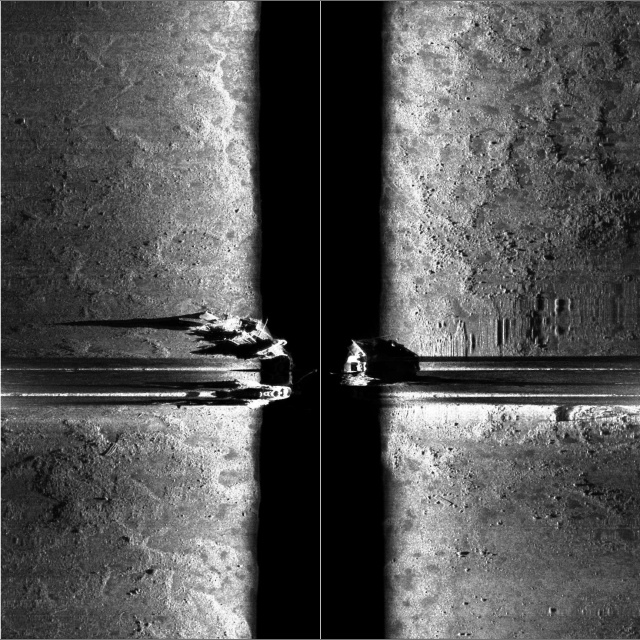Shipwreck: (104, 232, 452, 507)
